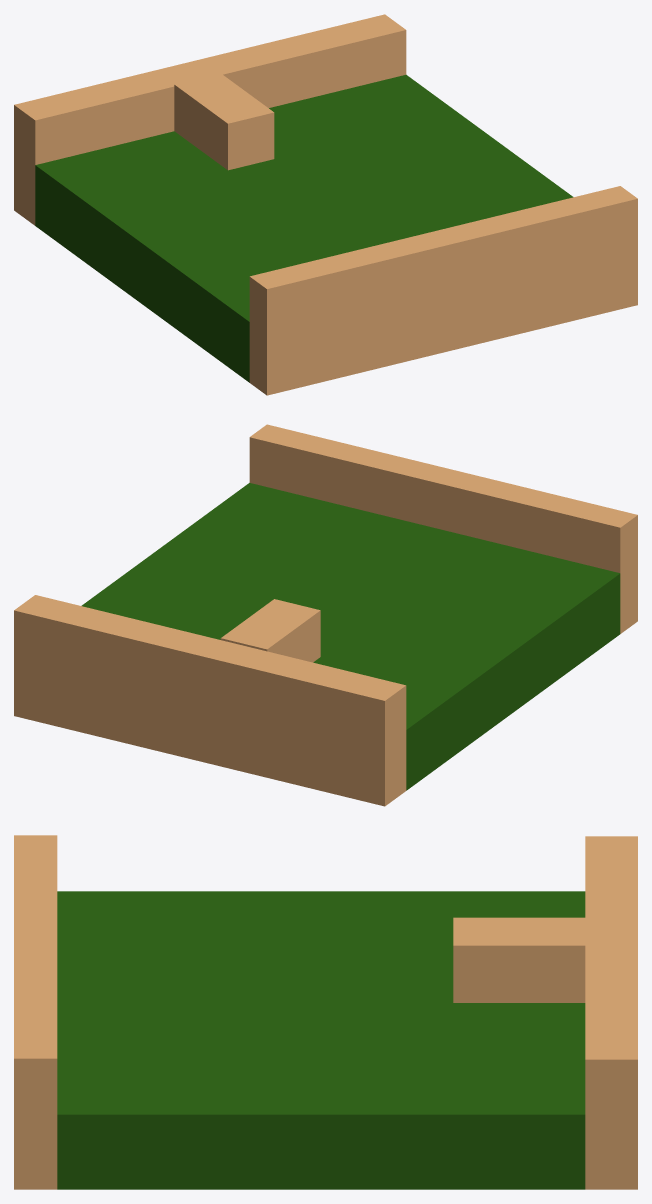
Rendered from Lego6.fbx.
3 views of the same model, one above another, from view 1: azimuth 30°, elevation 25°; view 2: azimuth 150°, elevation 25°; view 3: azimuth 270°, elevation 25° (orthographic). The views are drawn at different scales.
Visible parts, largest first — view 1: Cube.008, Cube.016, Cube.017; view 2: Cube.008, Cube.017, Cube.016; view 3: Cube.008, Cube.017, Cube.016.
Part boxes in pixels (x1,y1,x2,y2): Cube.008: [35, 74, 573, 382]; Cube.016: [249, 186, 637, 395]; Cube.017: [14, 14, 406, 225]; Cube.008: [81, 483, 620, 790]; Cube.017: [14, 595, 406, 806]; Cube.016: [249, 424, 637, 633]; Cube.008: [57, 891, 585, 1189]; Cube.017: [453, 836, 637, 1189]; Cube.016: [14, 835, 57, 1189].
Bounding box in the file's own units: 153 × 42.43 × 181.
